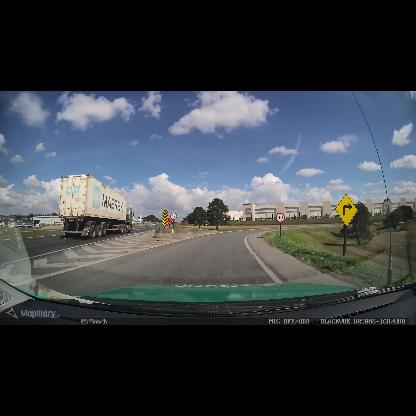A-24: (168, 217, 172, 224)
O-MP: (162, 209, 168, 226)
R-19: (276, 213, 285, 223), (170, 212, 177, 220)
